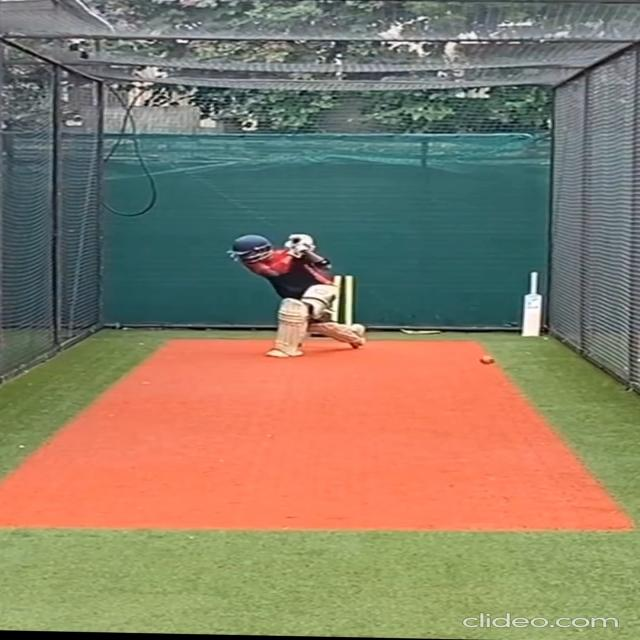ball: (478, 353, 500, 367)
stump: (328, 271, 364, 338)
